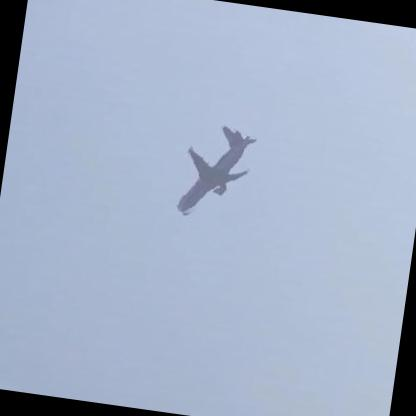plane: (177, 117, 258, 224)
